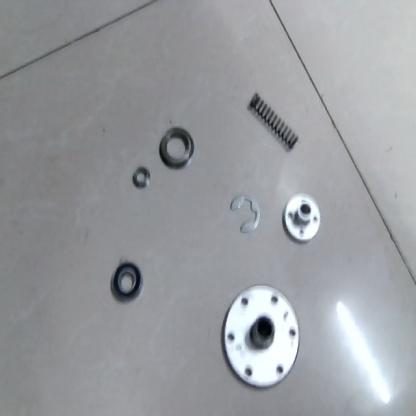FOD: (219, 280, 304, 393), (245, 90, 306, 154), (281, 188, 325, 249), (108, 257, 146, 306), (228, 186, 262, 237), (158, 127, 194, 168), (132, 160, 152, 193)
